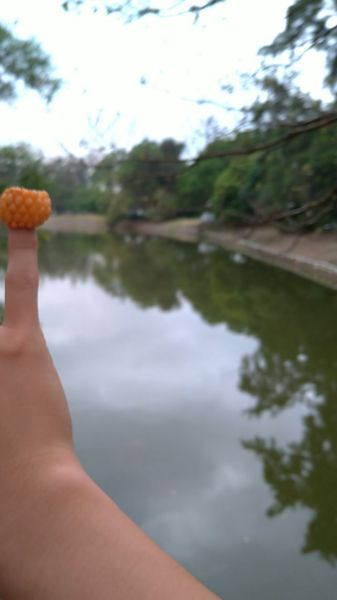eggs: (2, 185, 51, 229)
